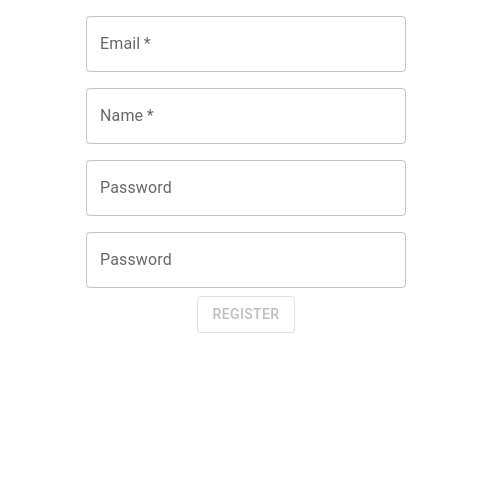
Test: RegForm › Invalid input message display
The width and height of the screenshot is (492, 500).
Expected: the text "Email is not valid!" is not shown
Expected: the text "Passwords are not matching!" is not shown
Type "ji" into the field labelled "Email *". click: (246, 44)
box: x1=86 y1=16 x2=406 y2=72
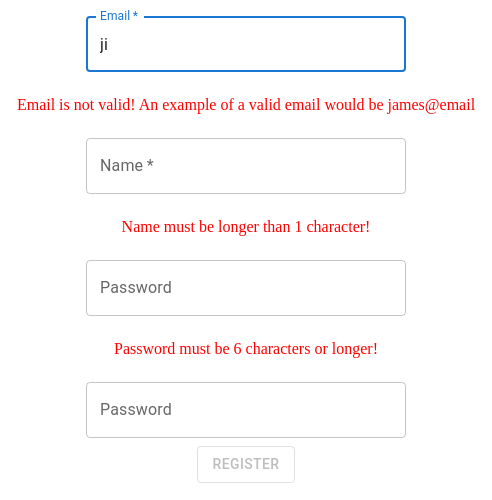
Now the text "Email is not valid! An example of a valid email would be james@email" is shown, box x1=17 y1=96 x2=475 y2=114
Now the text "Password must be 6 characters or longer!" is shown, box x1=114 y1=340 x2=378 y2=358
Now the text "Name must be longer than 1 character!" is shown, box x1=122 y1=218 x2=370 y2=236
Type "@1234" into the field labelled "Email *". click: (246, 44)
box: x1=86 y1=16 x2=406 y2=72
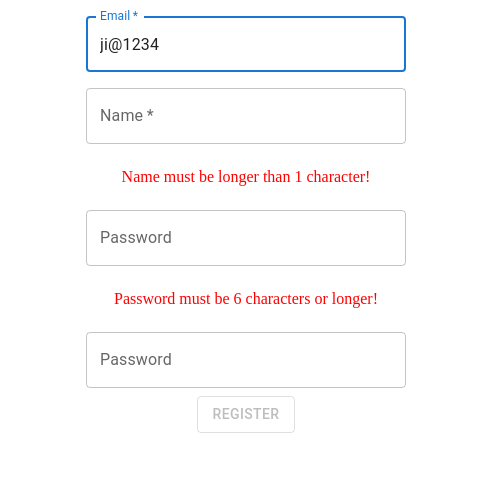
Now the text "Password must be 6 characters or longer!" is shown, box x1=114 y1=290 x2=378 y2=308
Now the text "Name must be longer than 1 character!" is shown, box x1=122 y1=168 x2=370 y2=186
Now the text "Email is not valid!" is gone
Type "Roland" into the field labelled "Name *". click: (246, 116)
box: x1=86 y1=88 x2=406 y2=144
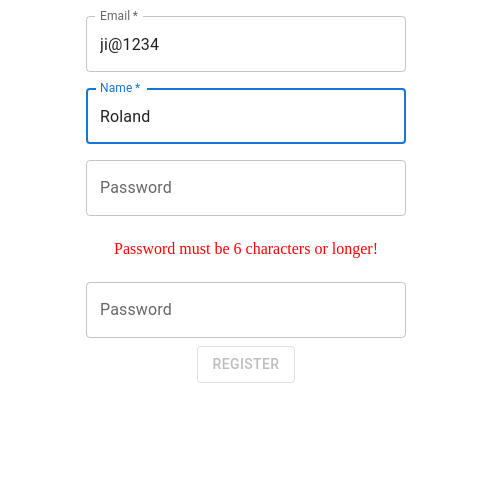
Expected: the text "Passwords are not matching!" is not shown
Now the text "Password must be 6 characters or longer!" is shown, box x1=114 y1=240 x2=378 y2=258
Now the text "Name must be longer than 1 character!" is gone
Type "123456" into the 1st password field labelled "Password". click: (246, 188)
box: x1=86 y1=160 x2=406 y2=216
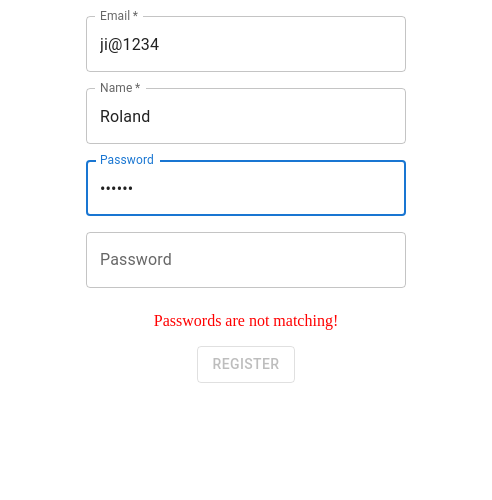
Now the text "Passwords are not matching!" is shown, box x1=154 y1=312 x2=338 y2=330
Now the text "Password must be 6 characters or longer!" is gone
Type "123456" into the 2nd password field labelled "Password". click: (246, 260)
box: x1=86 y1=232 x2=406 y2=288
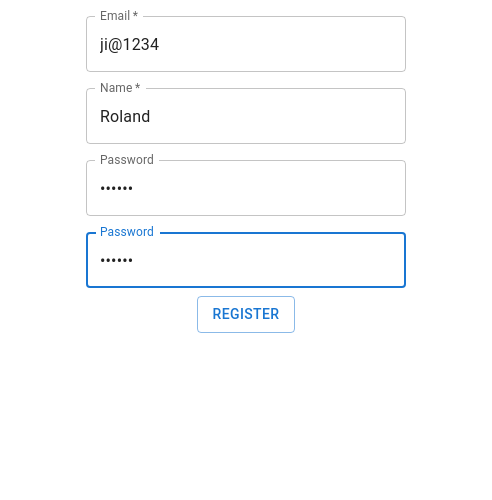
Now the text "Passwords are not matching!" is gone
Now the button "Register" is enabled, box x1=196 y1=296 x2=296 y2=332
Name too long
Type "1245678901234567890123456789012345678901234567890123456789012345678901234567890123456789012345678901234567890w1234567890" into the field labelled "Name *". click: (246, 116)
box: x1=86 y1=88 x2=406 y2=144
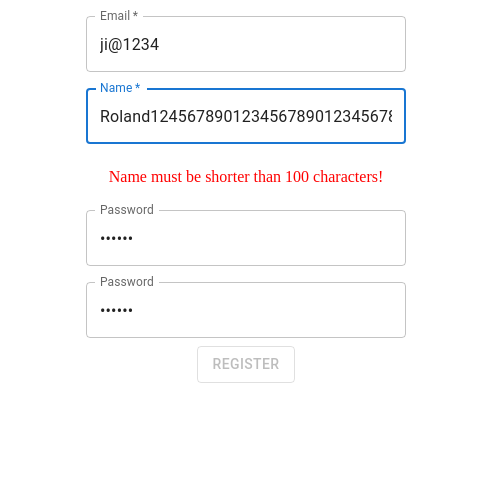
Now the text "Name must be shorter than 100 characters!" is shown, box x1=109 y1=168 x2=383 y2=186
Now the button "Register" is disabled, box x1=196 y1=346 x2=296 y2=382
